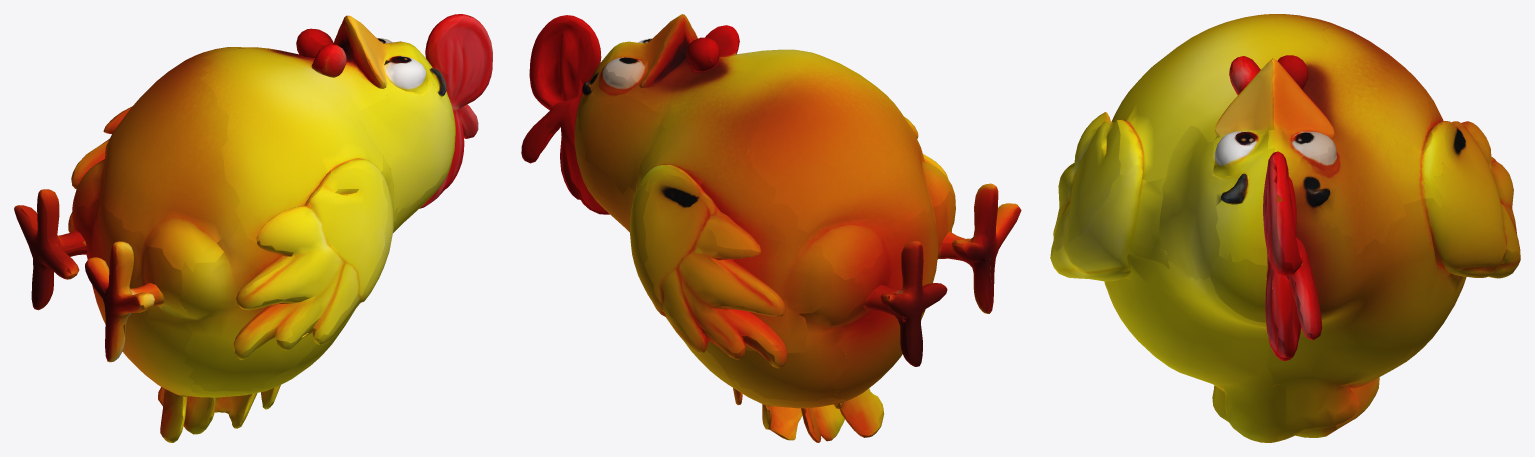
Rendered from fatty_chicken.glb.
The picture shows the model from 3 angles, left to right: view 1: azimuth 30°, elevation 25°; view 2: azimuth 150°, elevation 25°; view 3: azimuth 270°, elevation 25°; orthographic projection. The views are drawn at different scales.
Parts seen in each view (by area): view 1: Fatty chicken; view 2: Fatty chicken; view 3: Fatty chicken.
Boxes of the visible parts, x1,y1,x2,y2 form: Fatty chicken: [14, 14, 492, 442]; Fatty chicken: [521, 14, 1021, 442]; Fatty chicken: [1050, 14, 1520, 442].
Size of the model in its own units: 1.85 by 1.6 by 1.49.
1 material, 1 textured.
